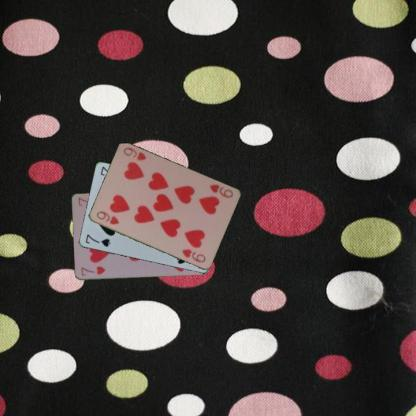7h: (79, 263, 106, 277)
7s: (82, 232, 112, 248)
9h: (206, 182, 234, 199), (94, 208, 120, 226)
